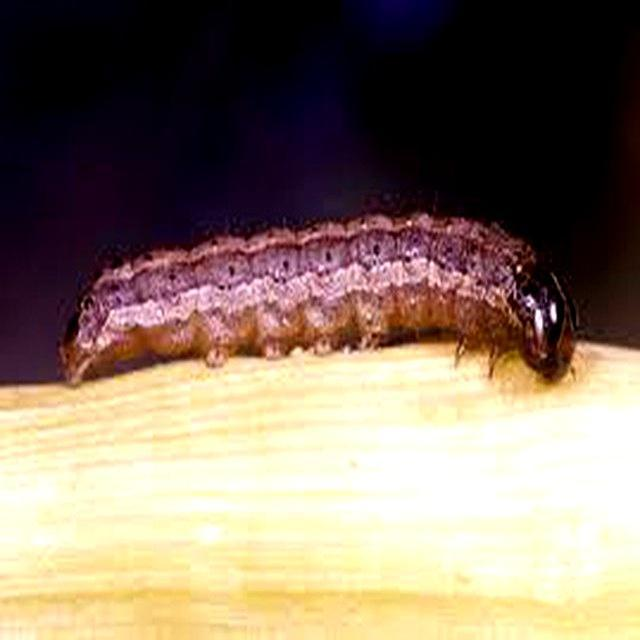Plaga: (57, 193, 594, 391)
